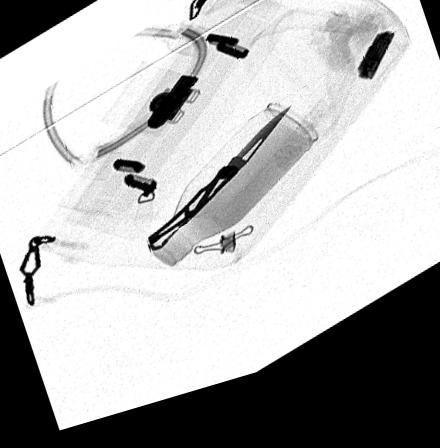Knife: (146, 120, 291, 260)
